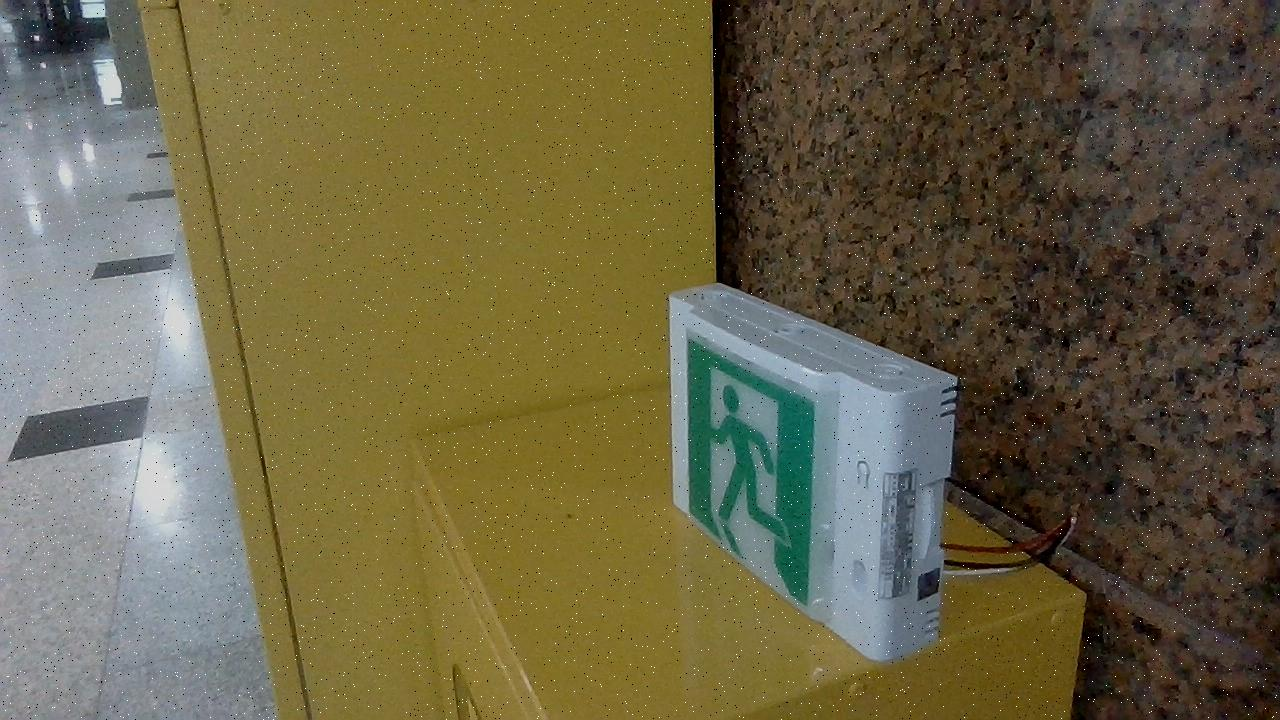emergency_exit: (666, 281, 961, 664)
